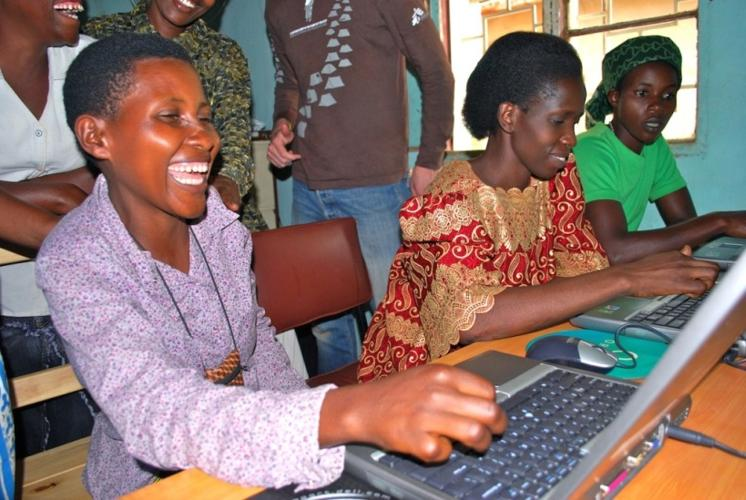person: (37, 35, 510, 500)
